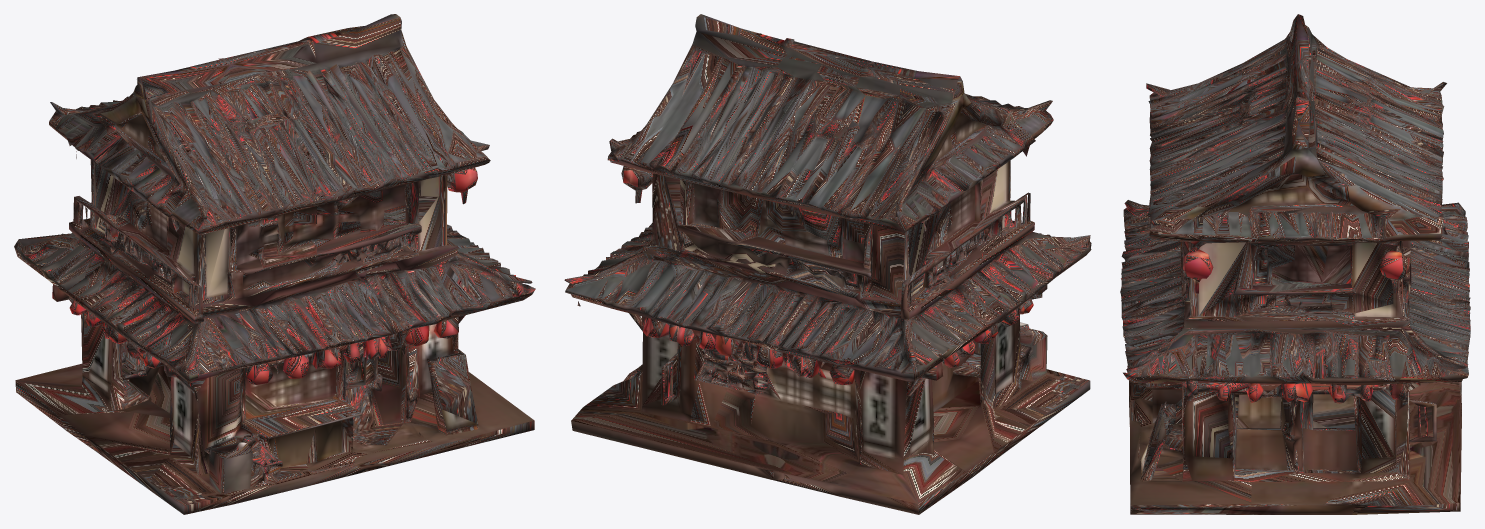
File: bq_shop_lantern.lod.glb
3 renders of one model, left to right at view 1: azimuth 30°, elevation 25°; view 2: azimuth 150°, elevation 25°; view 3: azimuth 270°, elevation 25°, orthographic. The views are drawn at different scales.
Bounding box in the file's own units: 1.99 × 1.98 × 1.77.
1 material, 1 textured.
